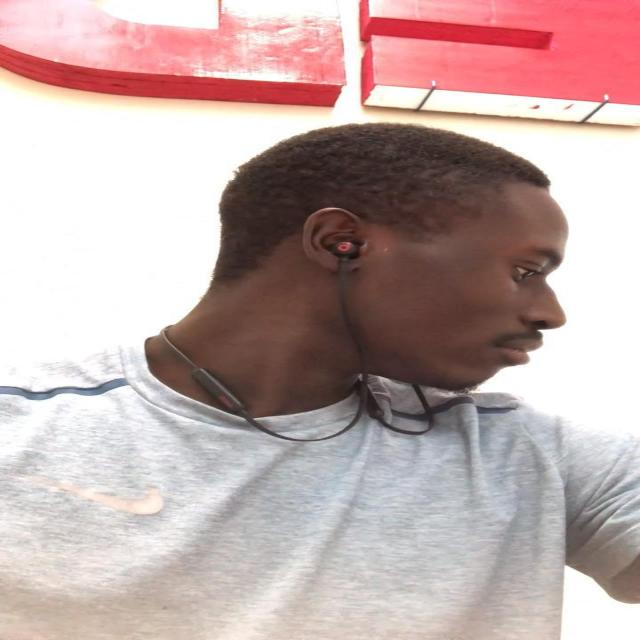face: (322, 179, 570, 395)
